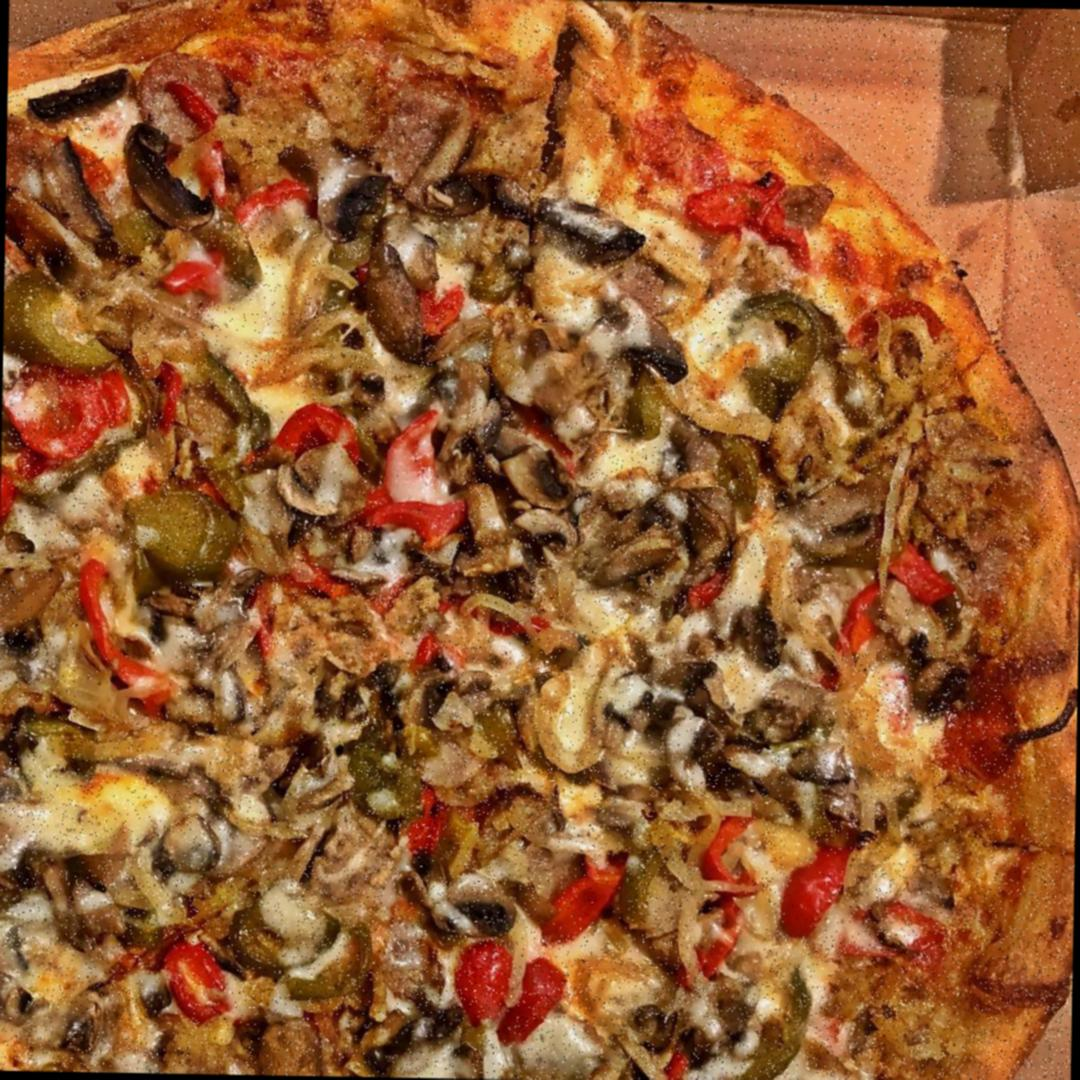Mushroom: (595, 486, 732, 581), (115, 123, 219, 237), (36, 138, 116, 248), (520, 325, 604, 423), (530, 189, 644, 258), (367, 243, 432, 353), (28, 62, 136, 128), (278, 438, 367, 518), (491, 436, 577, 505), (318, 157, 392, 232)
Peppers: (79, 551, 178, 715), (374, 403, 464, 549), (158, 64, 242, 219), (1, 368, 136, 457), (683, 166, 809, 258), (452, 944, 570, 1040), (694, 810, 764, 970), (250, 400, 360, 475), (542, 857, 626, 940), (160, 933, 236, 1018), (784, 838, 850, 932), (822, 561, 878, 651), (887, 540, 953, 609), (414, 250, 468, 334), (240, 170, 318, 219), (400, 776, 446, 854), (158, 251, 226, 301), (681, 558, 730, 606)
Pizza: (0, 0, 1080, 1080)
